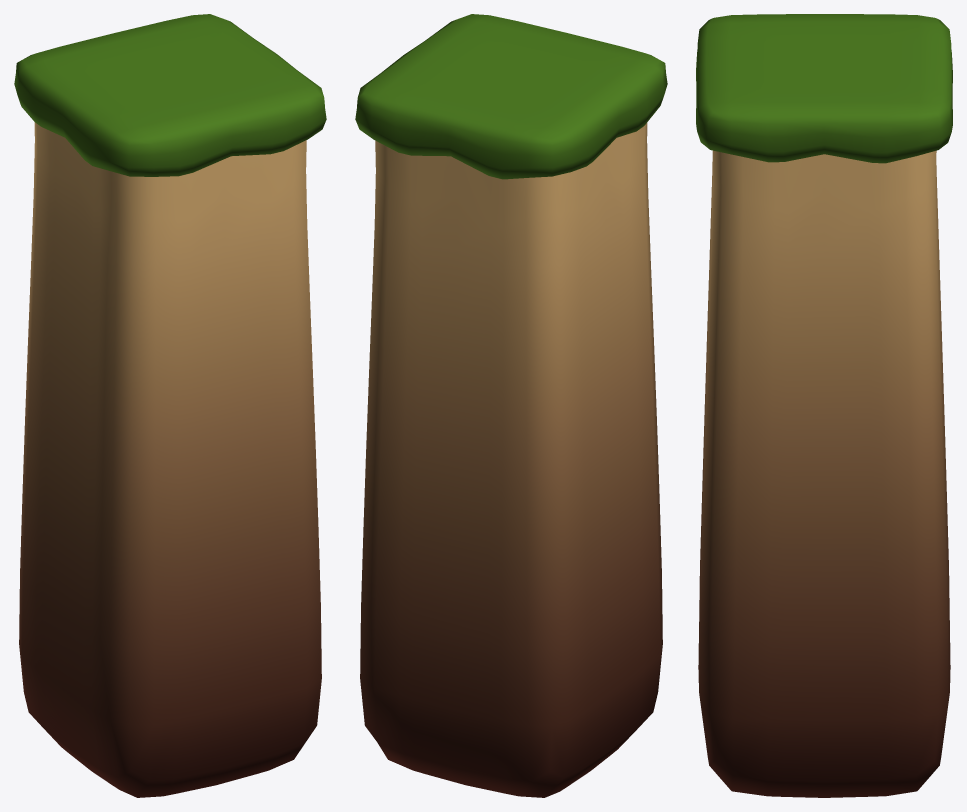
Rendered from TileGreen_3x6m.fbx.
3 views of the same model, side by side, from view 1: azimuth 30°, elevation 25°; view 2: azimuth 150°, elevation 25°; view 3: azimuth 270°, elevation 25° (orthographic). The views are drawn at different scales.
Visible parts, largest first — view 1: TileGreen_3x6m; view 2: TileGreen_3x6m; view 3: TileGreen_3x6m.
Part boxes in pixels (x1,y1,x2,y2): TileGreen_3x6m: (14, 14, 326, 797); TileGreen_3x6m: (355, 14, 667, 797); TileGreen_3x6m: (696, 14, 952, 797).
Bounding box in the file's own units: 2 × 6 × 2.
